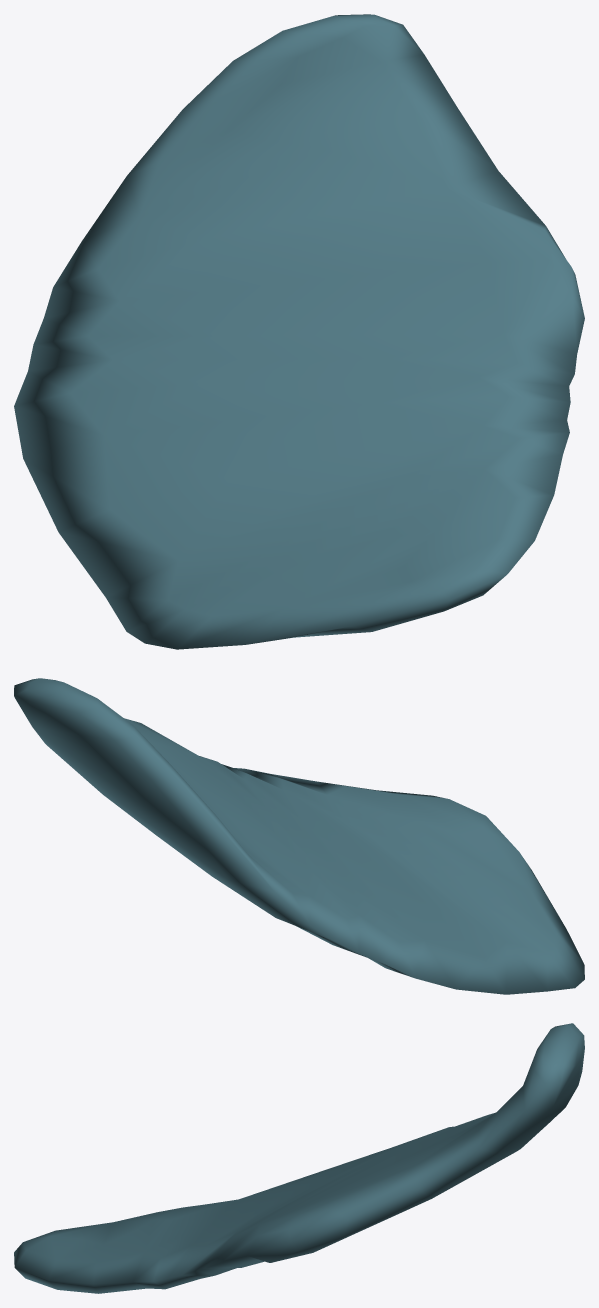
File: Medial_head_of_flexor_hallucis_brevis_on_prox_phal_of_1st.r_Gen.glb
3 renders of one model, top to bottom at view 1: azimuth 30°, elevation 25°; view 2: azimuth 150°, elevation 25°; view 3: azimuth 270°, elevation 25°, orthographic. The views are drawn at different scales.
Parts seen in each view (by area): view 1: Medial_head_of_flexor_hallucis_brevis_on_prox_phal_of_1st.r_; view 2: Medial_head_of_flexor_hallucis_brevis_on_prox_phal_of_1st.r_; view 3: Medial_head_of_flexor_hallucis_brevis_on_prox_phal_of_1st.r_.
Part boxes in pixels (x1,y1,x2,y2): Medial_head_of_flexor_hallucis_brevis_on_prox_phal_of_1st.r_: (14, 14, 584, 649); Medial_head_of_flexor_hallucis_brevis_on_prox_phal_of_1st.r_: (14, 678, 584, 994); Medial_head_of_flexor_hallucis_brevis_on_prox_phal_of_1st.r_: (14, 1023, 584, 1293).
Size of the model in its own units: 0.00565 by 0.00422 by 0.00621.
